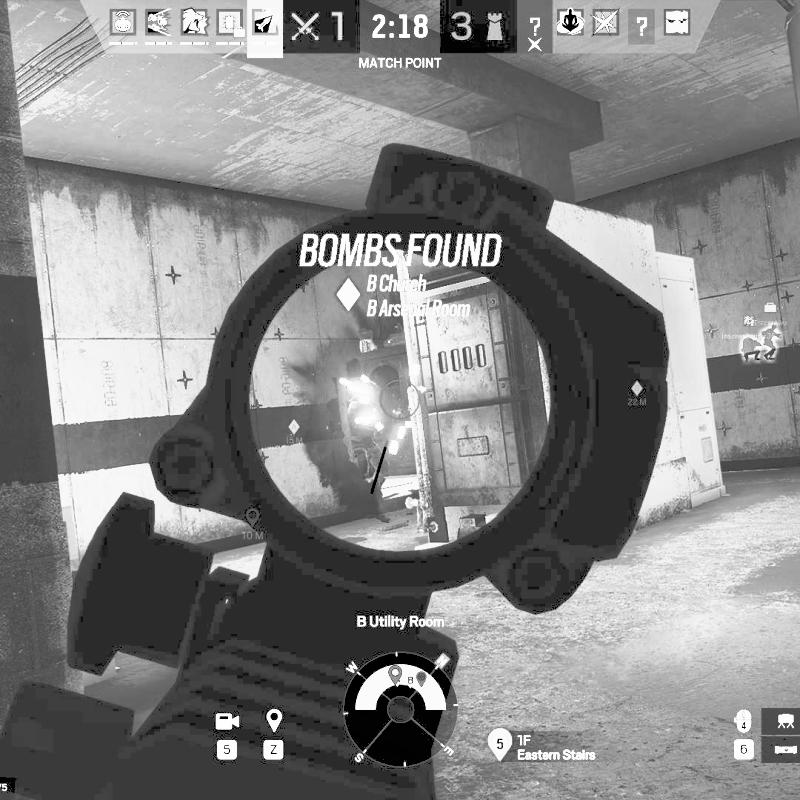Character: (346, 374, 408, 495)
Friend_label: (722, 314, 775, 340), (753, 301, 788, 326)
Head: (359, 378, 382, 401)
